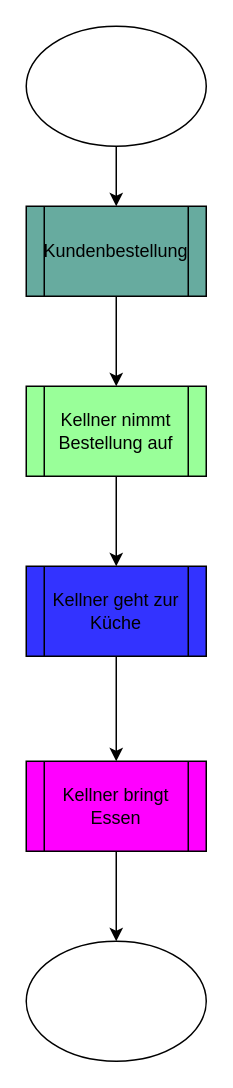
This 233x1088 diagram has some shape labels left out. Each missing label, with the centre of its shape:
"Ende" belongs at [115,1000].
"Start" belongs at [115,85].
